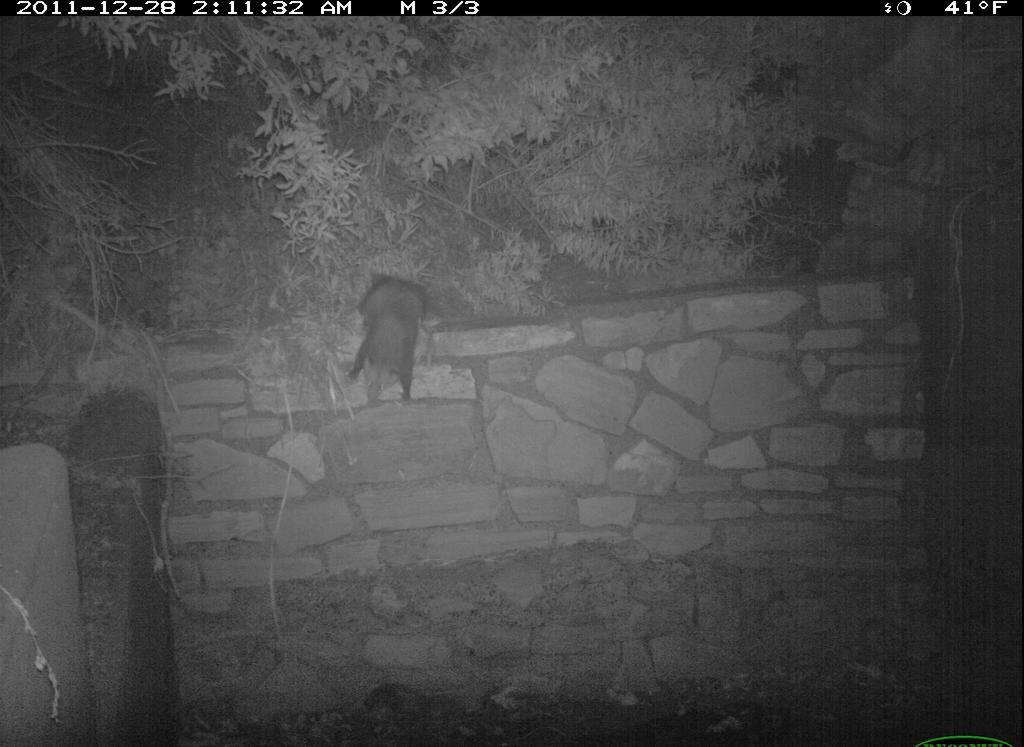opossum: (347, 232, 456, 420)
